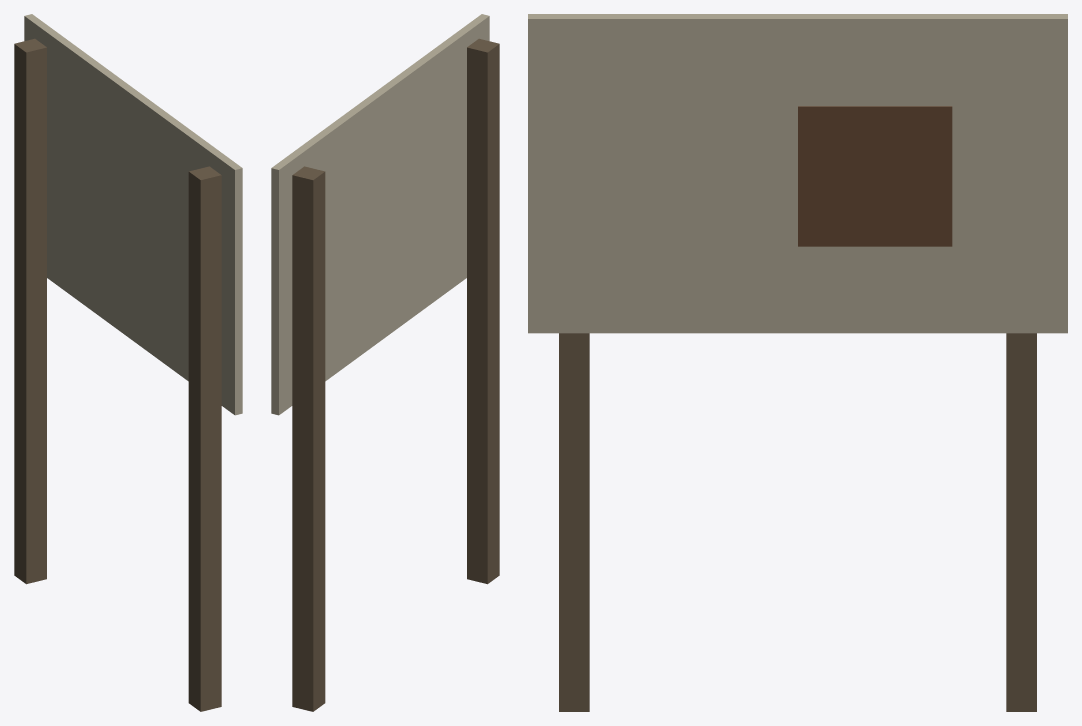
File: SM_Prop_road_cafesign_2_LOD2.glb
The picture shows the model from 3 angles, left to right: view 1: azimuth 30°, elevation 25°; view 2: azimuth 150°, elevation 25°; view 3: azimuth 270°, elevation 25°; orthographic projection. The views are drawn at different scales.
Parts seen in each view (by area): view 1: SM_Prop_road_cafesign_2_LOD2; view 2: SM_Prop_road_cafesign_2_LOD2; view 3: SM_Prop_road_cafesign_2_LOD2.
Boxes of the visible parts, left/top/right/bottom form: SM_Prop_road_cafesign_2_LOD2: left=14, top=14, right=242, bottom=711; SM_Prop_road_cafesign_2_LOD2: left=271, top=14, right=499, bottom=711; SM_Prop_road_cafesign_2_LOD2: left=528, top=14, right=1067, bottom=711.
Bounding box in the file's own units: 0.12 × 2 × 1.4.
